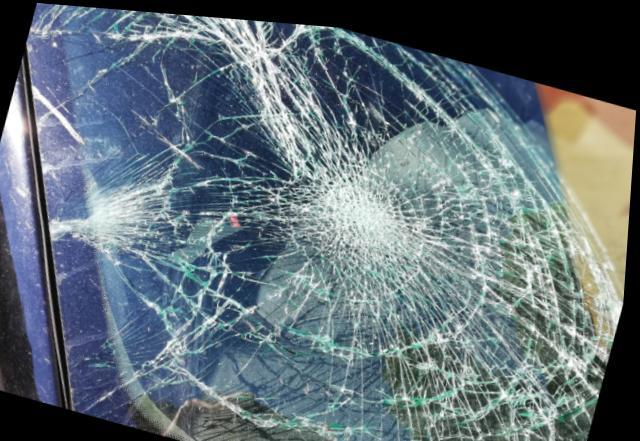glass shatter: (27, 2, 637, 441)
